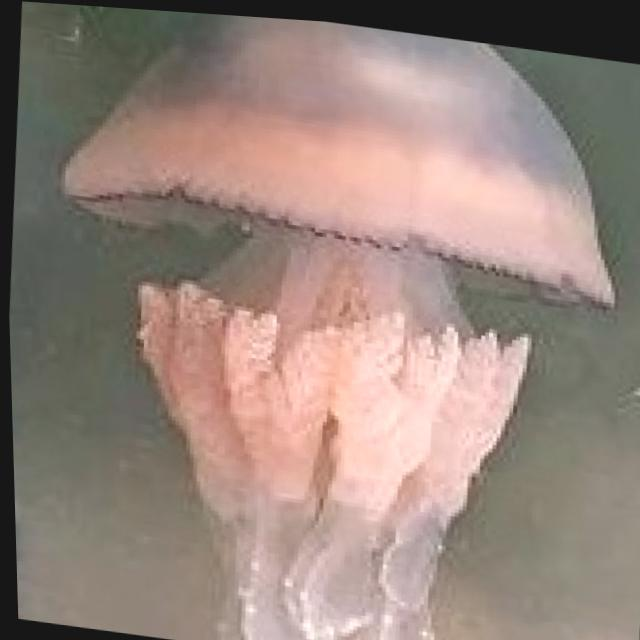Box-jellyfish: (21, 1, 640, 640)
